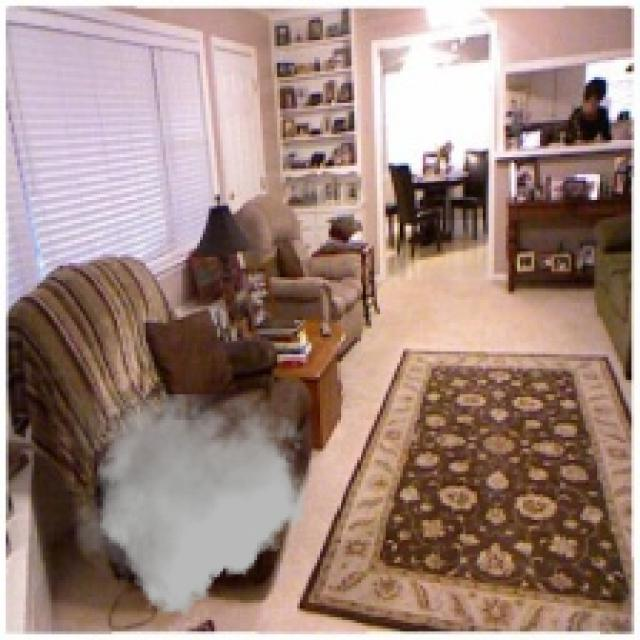smoke: (68, 394, 312, 614)
